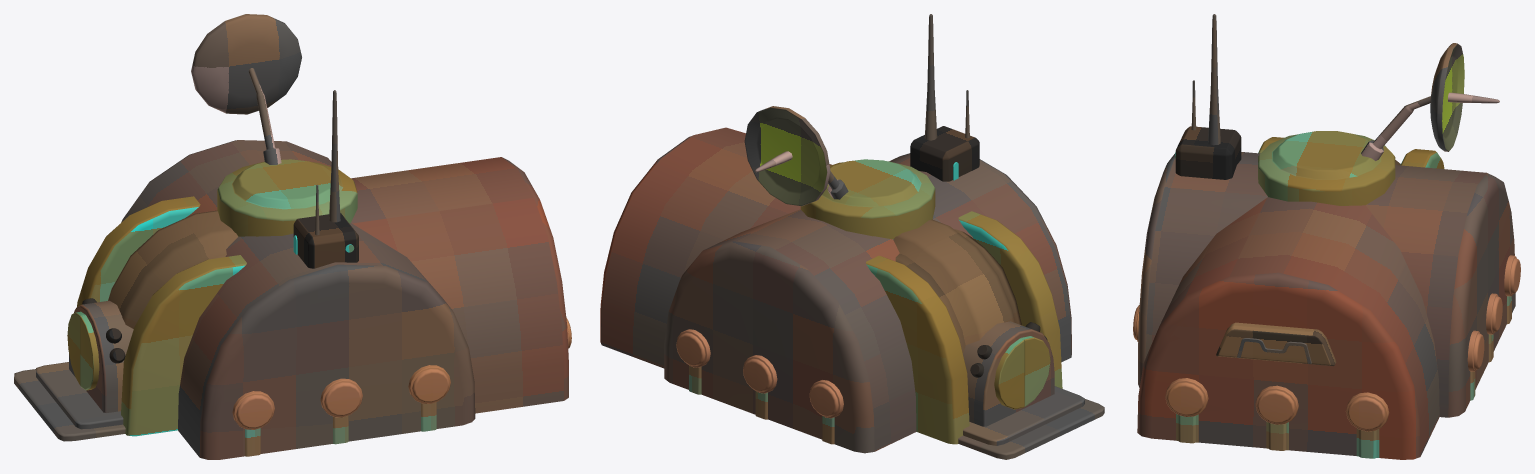
File: mars_building_scout.glb
The picture shows the model from 3 angles, left to right: view 1: azimuth 30°, elevation 25°; view 2: azimuth 150°, elevation 25°; view 3: azimuth 270°, elevation 25°; orthographic projection. The views are drawn at different scales.
Visible parts, largest first — view 1: Home_colonists; view 2: Home_colonists; view 3: Home_colonists.
Boxes of the visible parts, left/top/right/bottom form: Home_colonists: left=14, top=14, right=571, bottom=459; Home_colonists: left=600, top=14, right=1104, bottom=459; Home_colonists: left=1133, top=14, right=1520, bottom=459.
Size of the model in its own units: 16.11 by 10.56 by 11.37.
1 material, 1 textured.
